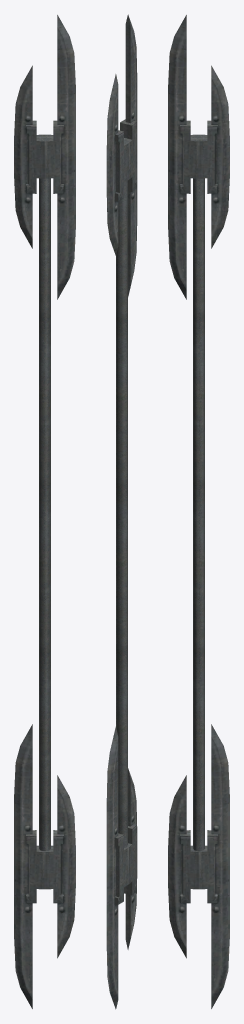
Rendered from wp_mle_lance_military_pike_l0.fbx.
3 renders of one model, left to right at view 1: azimuth 90°, elevation 25°; view 2: azimuth 150°, elevation 25°; view 3: azimuth 270°, elevation 25°, orthographic.
Visible parts, largest first — view 1: mesh_node; view 2: mesh_node; view 3: mesh_node.
Part boxes in pixels (x1,y1,x2,y2): mesh_node: (14, 15, 75, 1008); mesh_node: (106, 14, 137, 1009); mesh_node: (168, 15, 229, 1008).
Bounding box in the file's own units: 0.0211 × 1.44 × 0.0814.
1 material, 1 textured.
